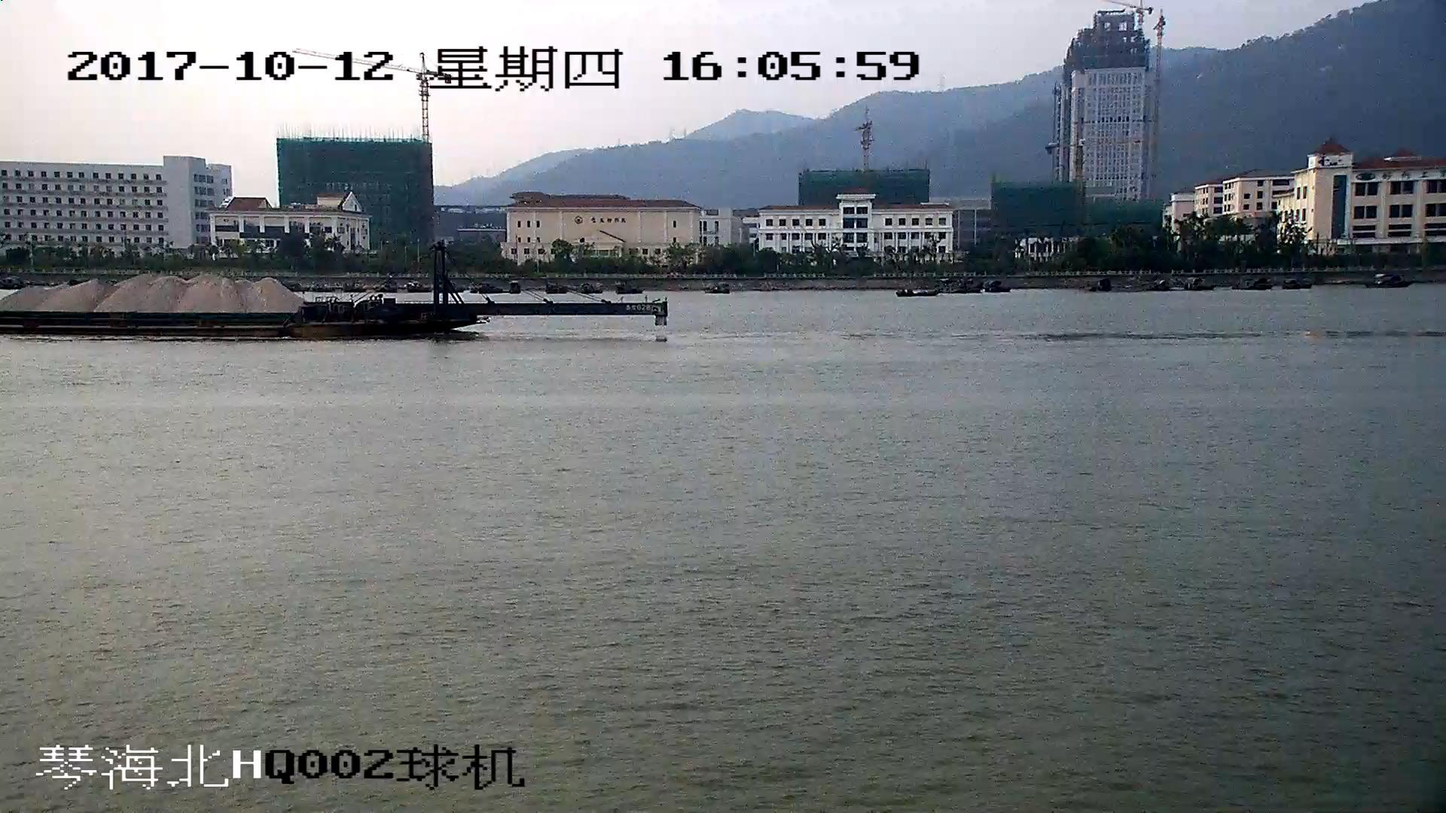ore carrier: (0, 242, 667, 342)
